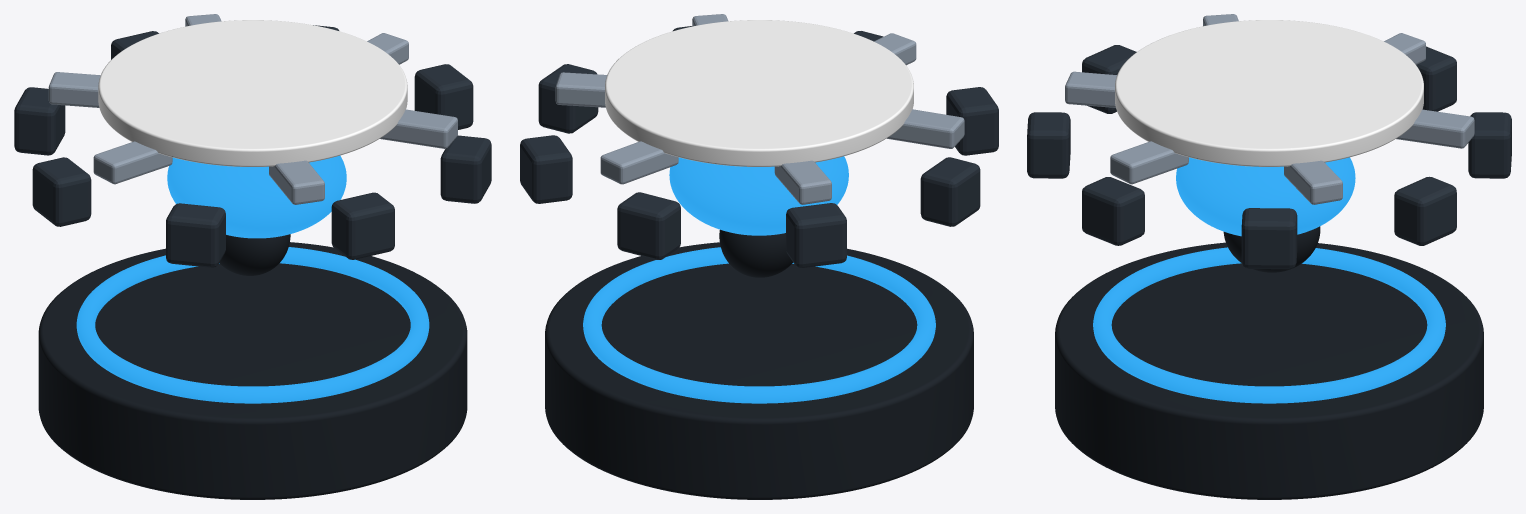
File: ev_core_r11b_lens.glb
3 renders of one model, left to right at view 1: azimuth 30°, elevation 25°; view 2: azimuth 150°, elevation 25°; view 3: azimuth 270°, elevation 25°, orthographic.
Visible parts, largest first — view 1: ChamberRearCavity, ContainmentGlass, ChamberRearConfinement, PlasmaVolume, LensRetainer_6, LensRetainer_5, LensRetainer_4, LensRetainer_7, LensRetainer_3, LensRetainer_0, CognitionNucleus, IrisBlade_3 (+4 smaller); view 2: ChamberRearCavity, ContainmentGlass, ChamberRearConfinement, PlasmaVolume, LensRetainer_2, LensRetainer_3, LensRetainer_4, LensRetainer_1, LensRetainer_5, CognitionNucleus, LensRetainer_0, IrisBlade_1 (+4 smaller); view 3: ChamberRearCavity, ContainmentGlass, ChamberRearConfinement, PlasmaVolume, LensRetainer_7, LensRetainer_1, LensRetainer_0, LensRetainer_6, LensRetainer_2, IrisBlade_5, IrisBlade_1, LensRetainer_3 (+5 smaller).
Boxes of the visible parts, bbox=[...] form: ChamberRearCavity: bbox=[38, 242, 467, 499]; ContainmentGlass: bbox=[98, 20, 407, 166]; ChamberRearConfinement: bbox=[76, 247, 429, 403]; PlasmaVolume: bbox=[167, 155, 346, 238]; LensRetainer_6: bbox=[331, 192, 394, 259]; LensRetainer_5: bbox=[166, 203, 225, 267]; LensRetainer_4: bbox=[32, 157, 91, 226]; LensRetainer_7: bbox=[440, 135, 491, 203]; LensRetainer_3: bbox=[14, 87, 65, 155]; LensRetainer_0: bbox=[414, 64, 473, 129]; CognitionNucleus: bbox=[219, 234, 290, 275]; IrisBlade_3: bbox=[93, 141, 172, 184]; ChamberRearCavity: bbox=[545, 242, 973, 499]; ContainmentGlass: bbox=[605, 20, 913, 166]; ChamberRearConfinement: bbox=[583, 247, 935, 403]; PlasmaVolume: bbox=[669, 156, 848, 235]; LensRetainer_2: bbox=[617, 192, 680, 259]; LensRetainer_3: bbox=[786, 203, 846, 267]; LensRetainer_4: bbox=[920, 157, 980, 226]; LensRetainer_1: bbox=[520, 135, 572, 203]; LensRetainer_5: bbox=[946, 87, 998, 155]; CognitionNucleus: bbox=[719, 229, 792, 277]; LensRetainer_0: bbox=[538, 64, 598, 133]; IrisBlade_1: bbox=[600, 141, 678, 184]; ChamberRearCavity: bbox=[1055, 242, 1483, 499]; ContainmentGlass: bbox=[1115, 20, 1423, 166]; ChamberRearConfinement: bbox=[1093, 247, 1445, 403]; PlasmaVolume: bbox=[1176, 157, 1355, 236]; LensRetainer_7: bbox=[1082, 177, 1144, 245]; LensRetainer_1: bbox=[1394, 176, 1456, 245]; LensRetainer_0: bbox=[1241, 208, 1297, 269]; LensRetainer_6: bbox=[1027, 112, 1070, 178]; LensRetainer_2: bbox=[1468, 112, 1511, 178]; IrisBlade_5: bbox=[1110, 141, 1188, 184]; IrisBlade_1: bbox=[1396, 109, 1474, 148]; LensRetainer_3: bbox=[1416, 46, 1456, 111].
Bounding box in the file's own units: 3.89 × 2.89 × 3.89.
